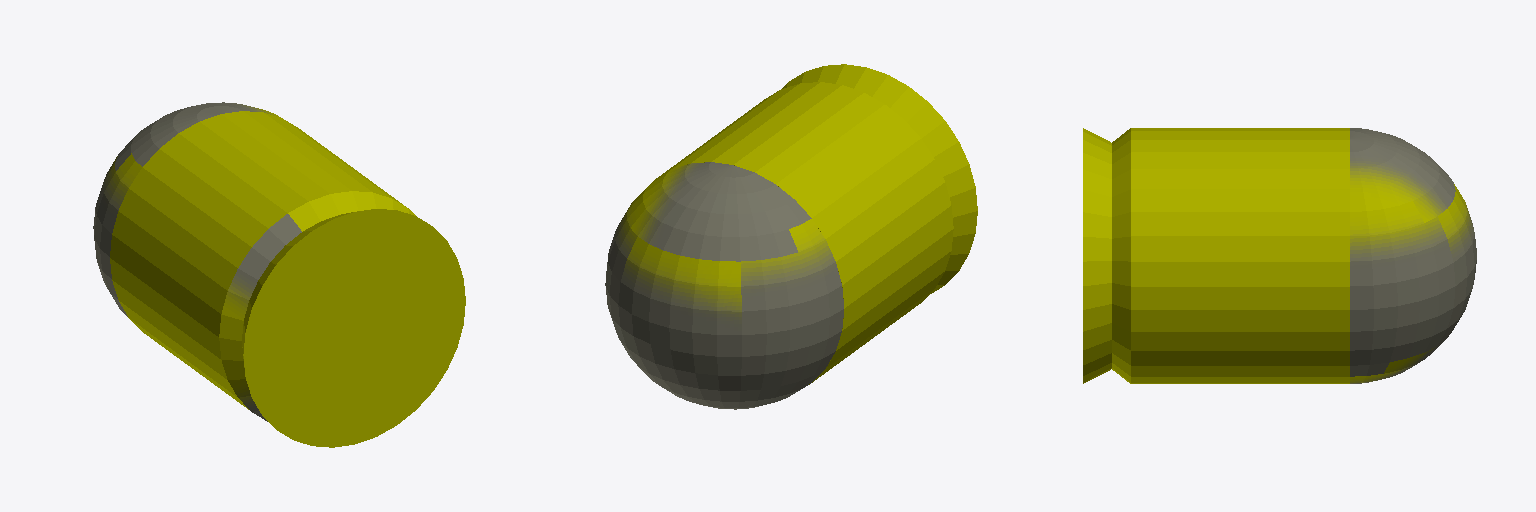
3 views of the same model, side by side, from view 1: azimuth 30°, elevation 25°; view 2: azimuth 150°, elevation 25°; view 3: azimuth 270°, elevation 25° (orthographic).
Parts seen in each view (by area): view 1: 薬莢, 弾頭; view 2: 弾頭, 薬莢; view 3: 薬莢, 弾頭.
Part boxes in pixels (left/top/right/bottom): 薬莢: left=110, top=111, right=465, bottom=447; 弾頭: left=93, top=102, right=280, bottom=316; 弾頭: left=605, top=162, right=843, bottom=409; 薬莢: left=656, top=64, right=977, bottom=384; 薬莢: left=1083, top=128, right=1349, bottom=383; 弾頭: left=1350, top=128, right=1476, bottom=383.
Size of the model in its own units: 2 by 2 by 3.07.
Materials: 2 (1 with a texture image).